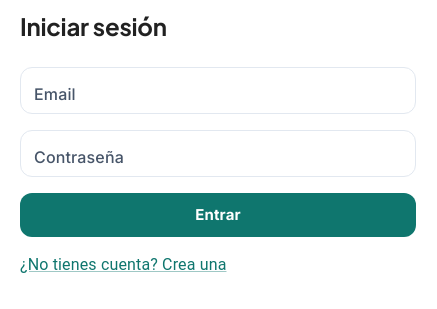
Test: LoginView › shows a format error and sends nothing when the email is malformed
In the field labelled "Email": (218, 90) [20,67,416,114], type "not-an-email"
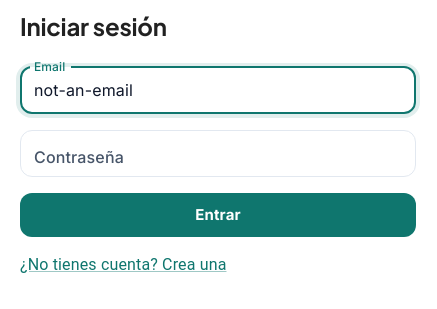
In the password field labelled "Contraseña": (218, 153) [20,130,416,177], type "secret"
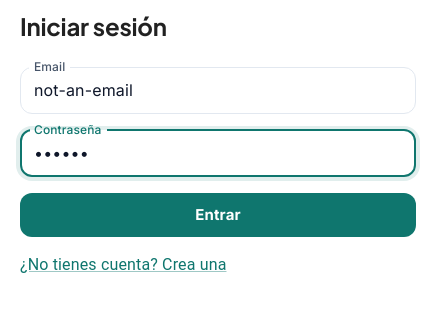
Click the button "Entrar": (218, 215) [20,193,416,237]
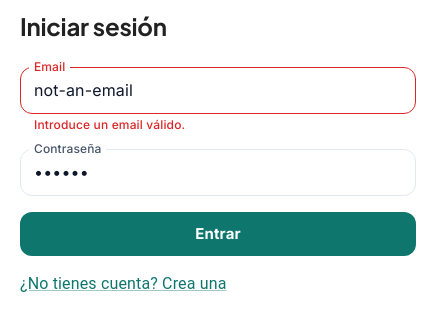
Expected: the text "Introduce un email válido." is shown, [34,117,185,132]
